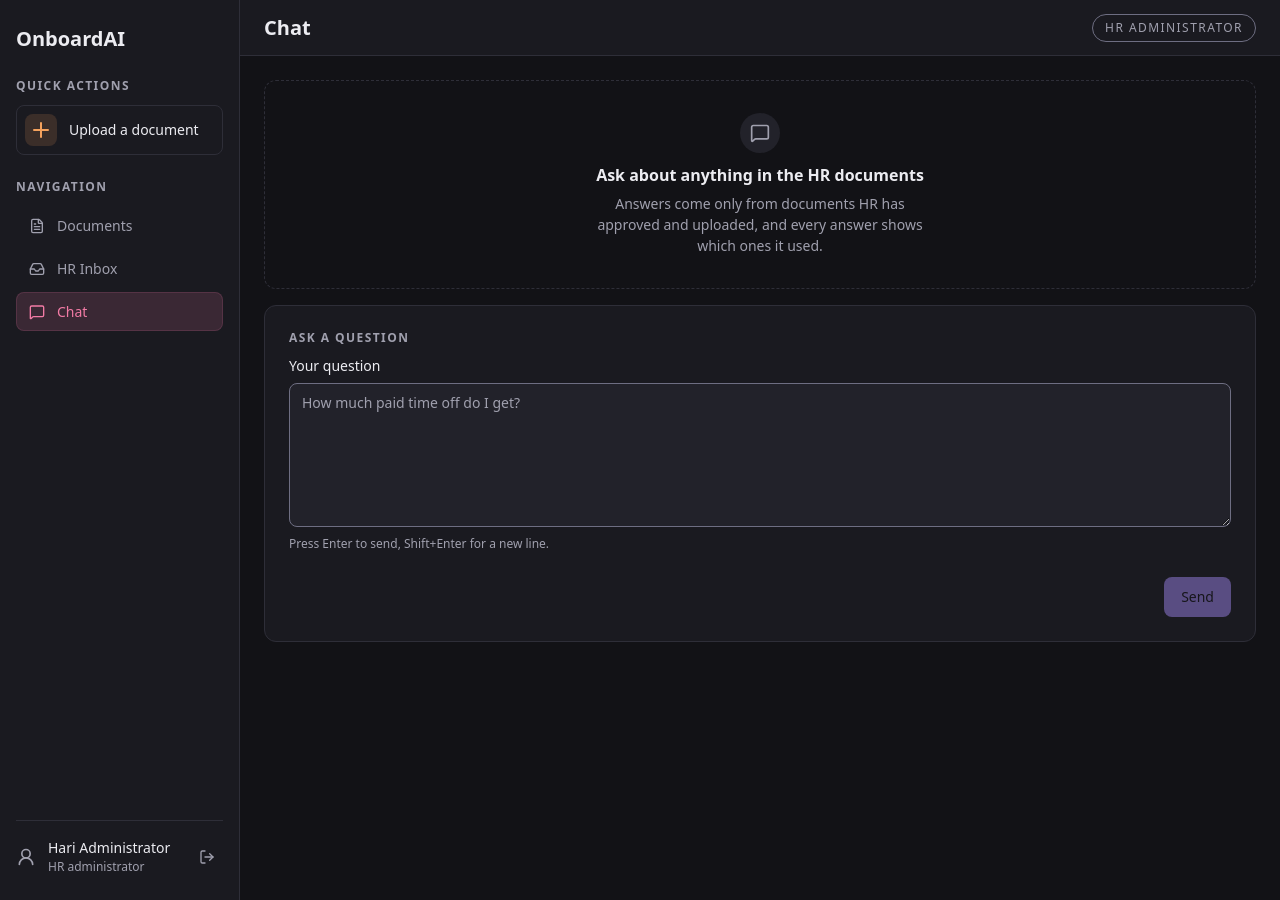
Test: navigating › signs out to the login page
Click the button named "Sign out" at (207, 856), box left=191, top=840, right=223, bottom=872
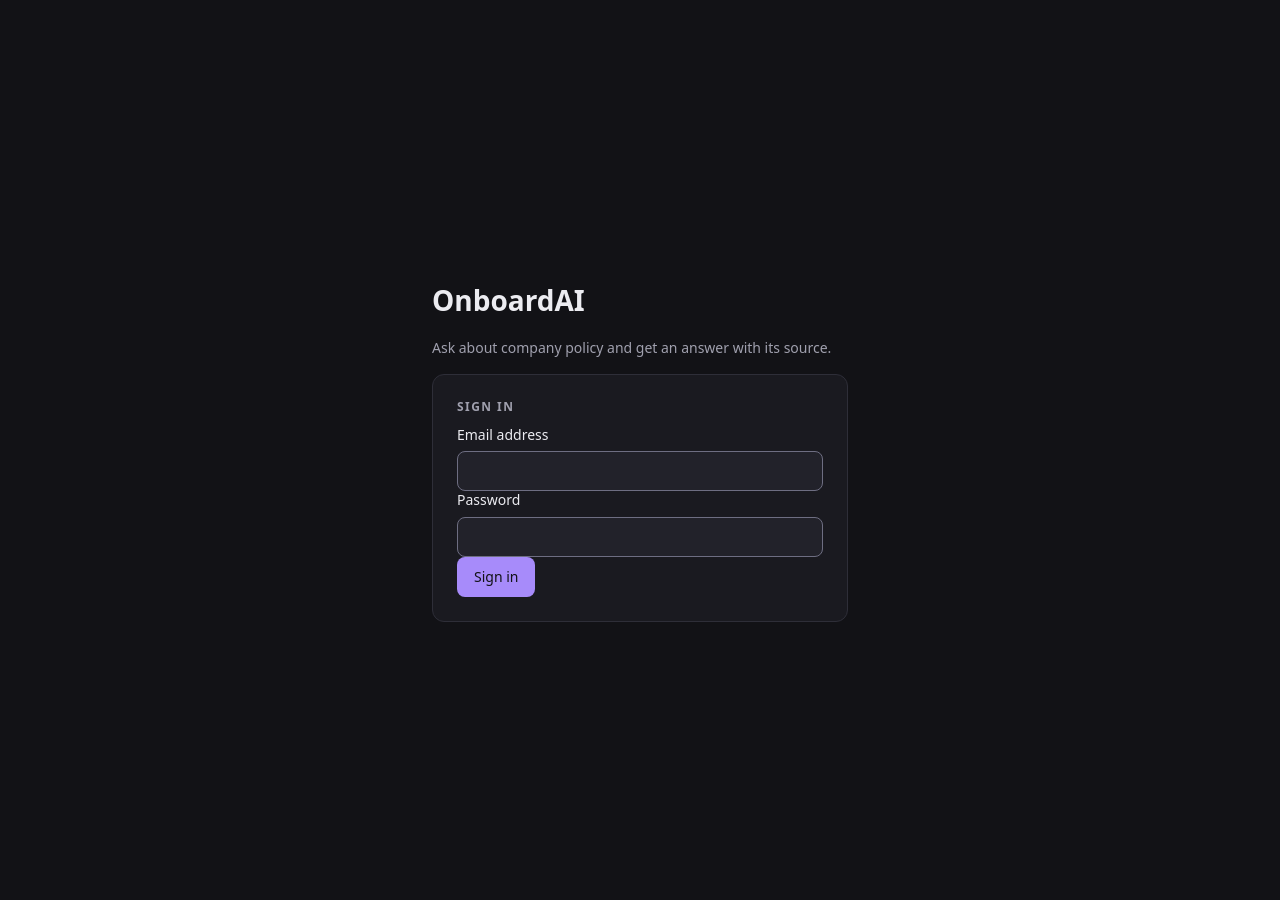
expect the heading "Navigation" is gone: met
expect the button "Sign in" is shown: met, box left=457, top=556, right=536, bottom=596
